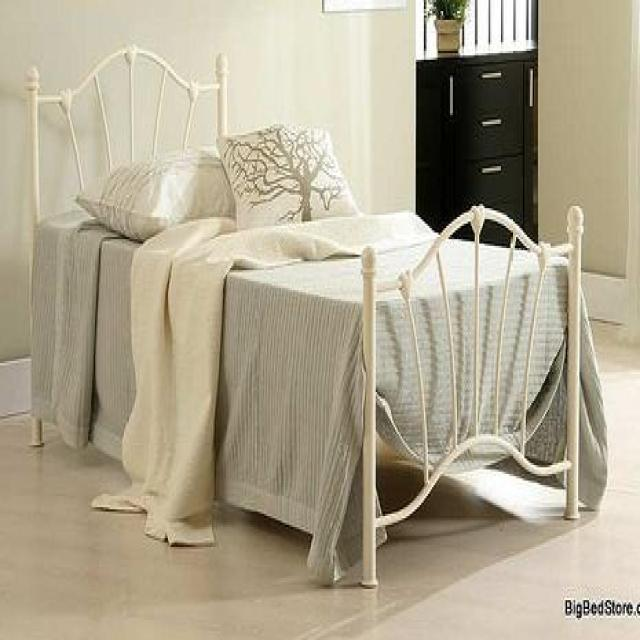bed: (23, 42, 607, 587)
